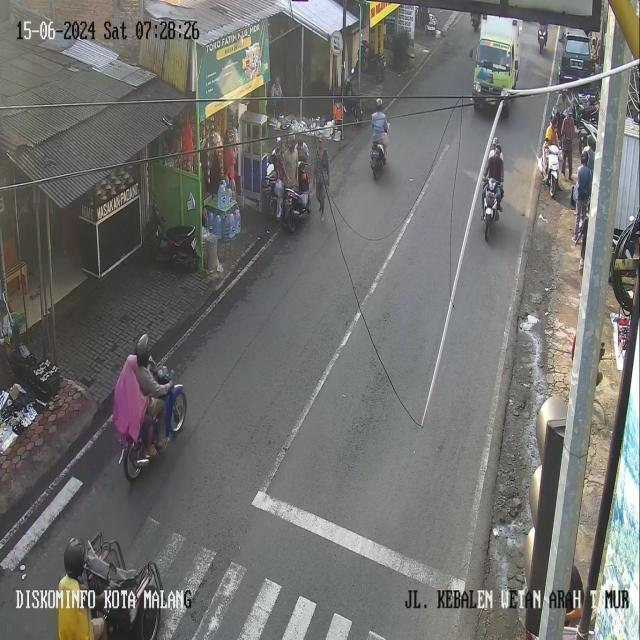Helmet: (64, 538, 84, 578), (135, 334, 149, 366), (587, 135, 595, 148), (581, 151, 589, 164), (588, 95, 596, 104), (492, 137, 499, 147), (376, 98, 383, 108), (495, 144, 501, 153)
